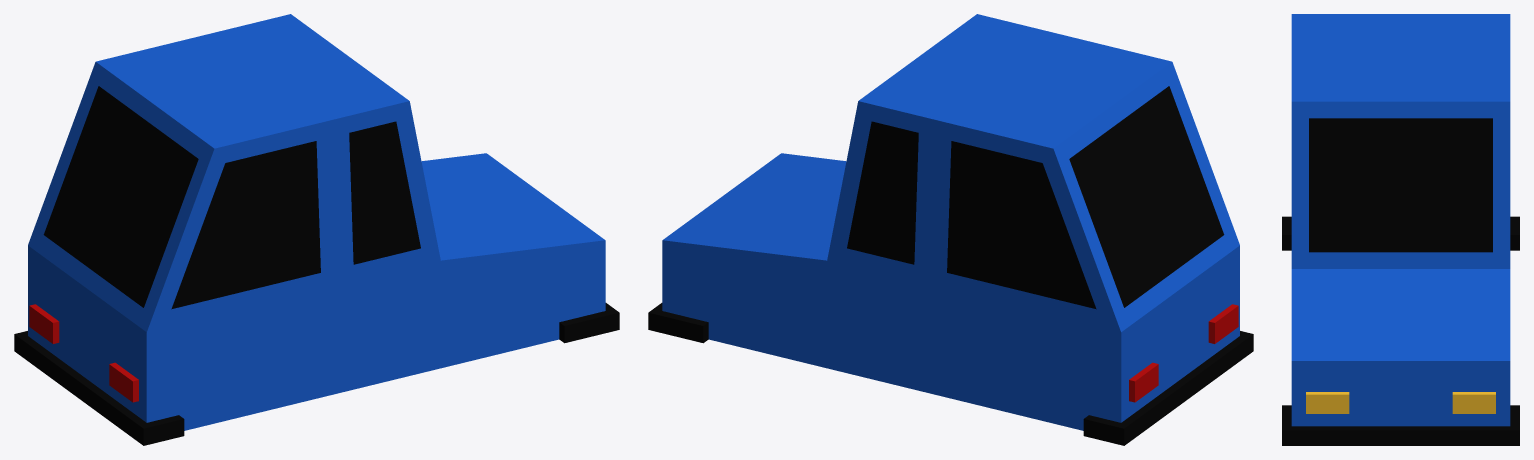
File: CityCar_Kombi_06.fbx
3 views of the same model, side by side, from view 1: azimuth 30°, elevation 25°; view 2: azimuth 150°, elevation 25°; view 3: azimuth 270°, elevation 25° (orthographic). The views are drawn at different scales.
Parts seen in each view (by area): view 1: CityCar_Kombi_06; view 2: CityCar_Kombi_06; view 3: CityCar_Kombi_06.
Part boxes in pixels (left/top/right/bottom): CityCar_Kombi_06: left=14, top=14, right=619, bottom=445; CityCar_Kombi_06: left=648, top=14, right=1253, bottom=445; CityCar_Kombi_06: left=1282, top=14, right=1519, bottom=445.
Size of the model in its own units: 0.4902 by 0.2706 by 0.2307.
